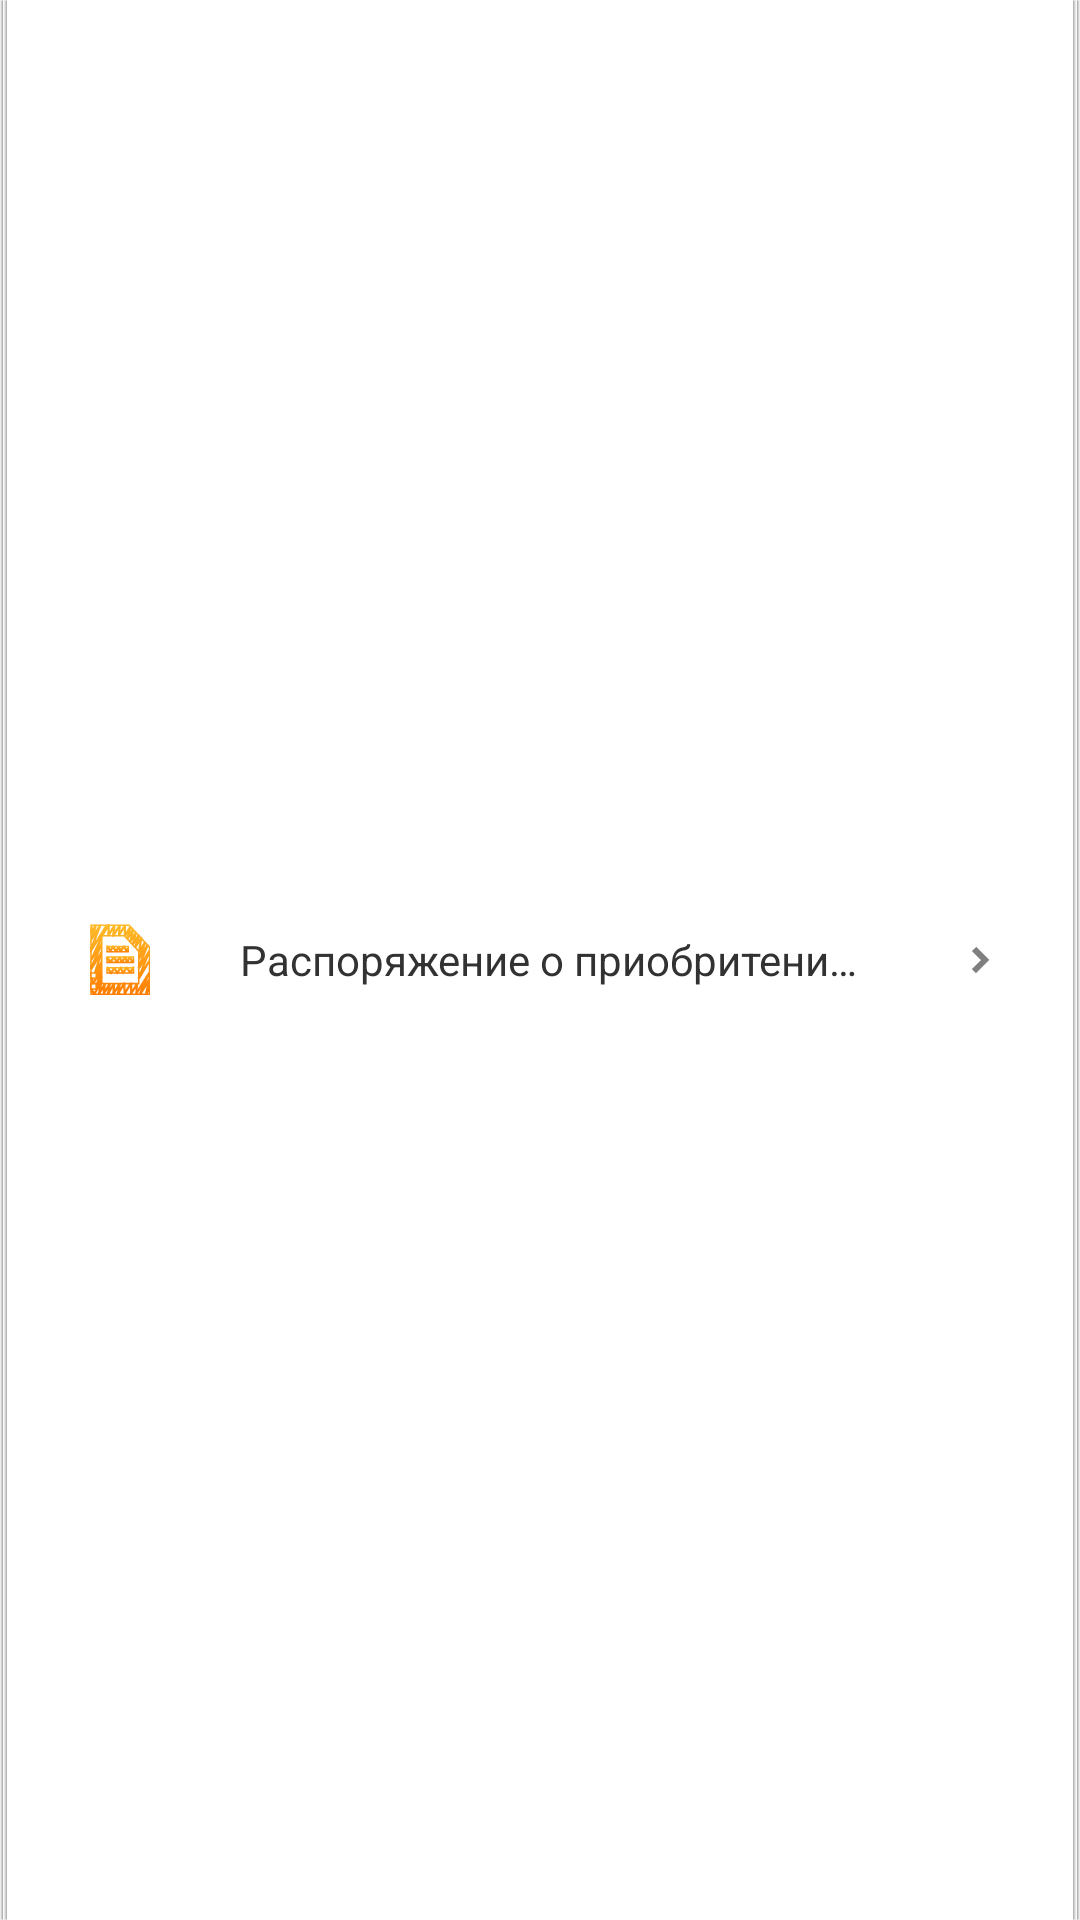

Locate icon controls on the screen. Image size 1080 x 1920, boxes as (x1, y1, x2, y2).
document: (90, 924, 150, 995)
